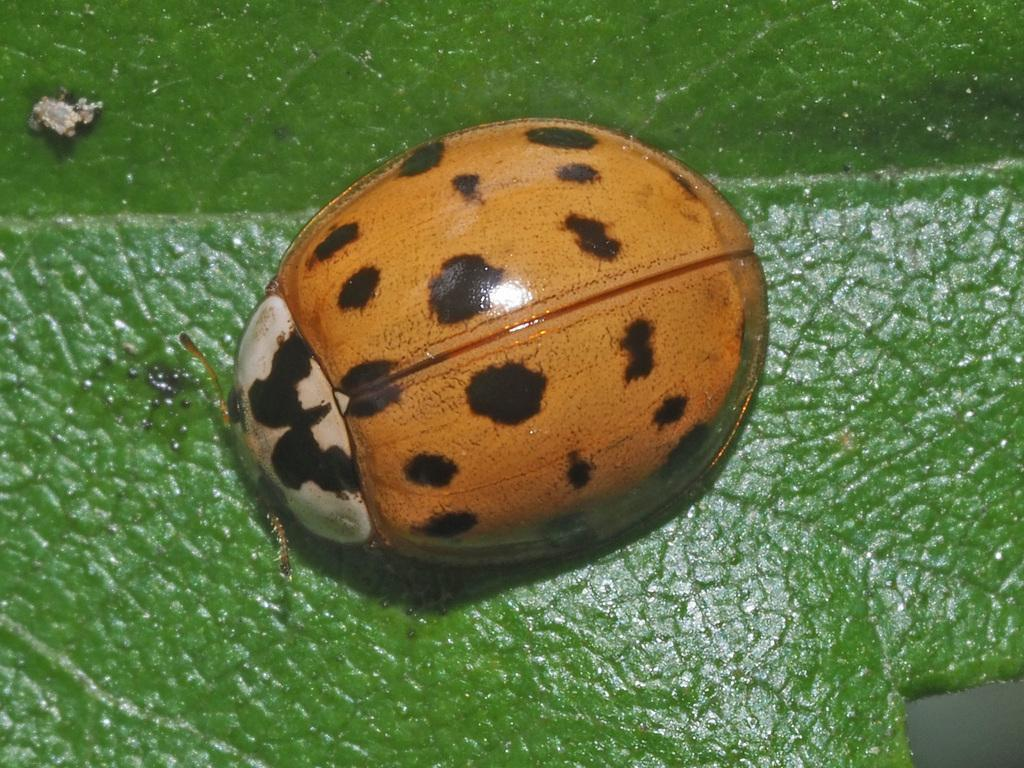ladybug: (181, 115, 775, 579)
